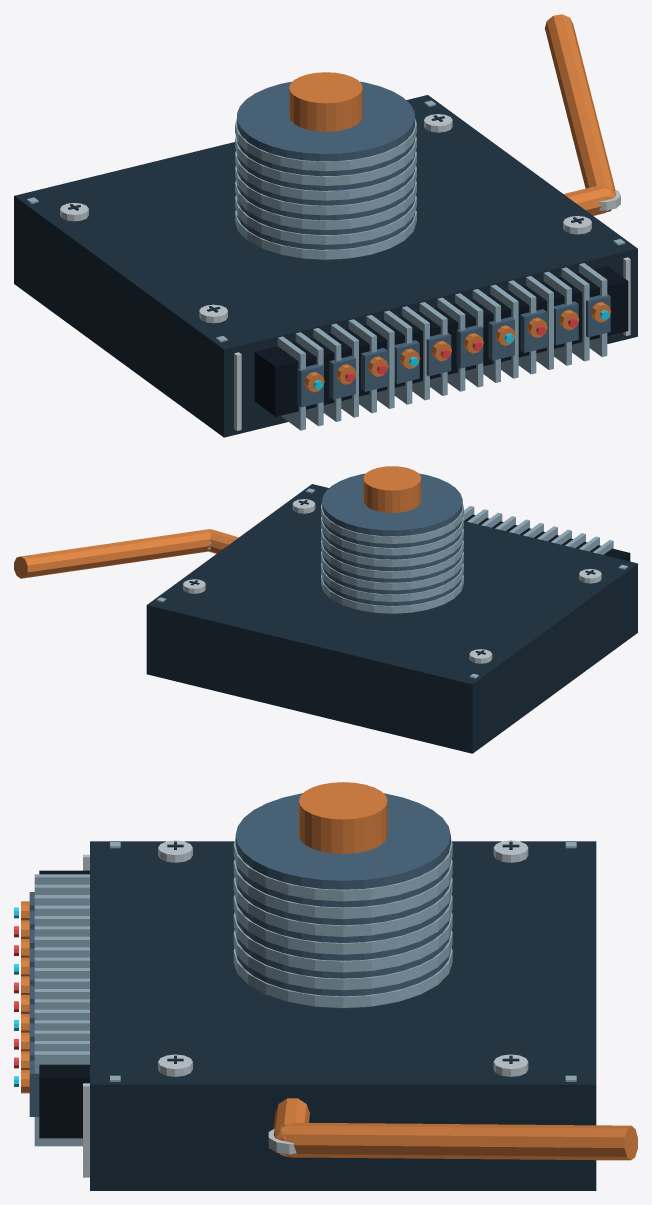
File: 04_L73_PlatenServoMotorDrive.fbx
3 views of the same model, one above another, from view 1: azimuth 30°, elevation 25°; view 2: azimuth 150°, elevation 25°; view 3: azimuth 270°, elevation 25° (orthographic). The views are drawn at different scales.
Parts seen in each view (by area): view 1: PlatenServoMotorDrive, PlatenServoMotorDrive_Part_0007, PlatenServoMotorDrive_Part_0019, PlatenServoMotorDrive_Part_0012, PlatenServoMotorDrive_Part_0018, PlatenServoMotorDrive_Part_0016, PlatenServoMotorDrive_Part_0015, PlatenServoMotorDrive_Part_0014, PlatenServoMotorDrive_Part_0013, PlatenServoMotorDrive_Part_0017; view 2: PlatenServoMotorDrive, PlatenServoMotorDrive_Part_0007, PlatenServoMotorDrive_Part_0019, PlatenServoMotorDrive_Part_0014, PlatenServoMotorDrive_Part_0012, PlatenServoMotorDrive_Part_0018, PlatenServoMotorDrive_Part_0016, PlatenServoMotorDrive_Part_0017, PlatenServoMotorDrive_Part_0015, PlatenServoMotorDrive_Part_0013; view 3: PlatenServoMotorDrive, PlatenServoMotorDrive_Part_0007, PlatenServoMotorDrive_Part_0019, PlatenServoMotorDrive_Part_0018, PlatenServoMotorDrive_Part_0014, PlatenServoMotorDrive_Part_0015, PlatenServoMotorDrive_Part_0017, PlatenServoMotorDrive_Part_0013, PlatenServoMotorDrive_Part_0016, PlatenServoMotorDrive_Part_0012.
Boxes of the visible parts, x1=… form: PlatenServoMotorDrive: x1=14, y1=14, x2=637, y2=437; PlatenServoMotorDrive_Part_0007: x1=237, y1=81, x2=414, y2=259; PlatenServoMotorDrive_Part_0019: x1=289, y1=72, x2=362, y2=131; PlatenServoMotorDrive_Part_0012: x1=235, y1=210, x2=416, y2=259; PlatenServoMotorDrive_Part_0018: x1=235, y1=118, x2=416, y2=171; PlatenServoMotorDrive_Part_0016: x1=235, y1=151, x2=416, y2=200; PlatenServoMotorDrive_Part_0015: x1=235, y1=166, x2=416, y2=215; PlatenServoMotorDrive_Part_0014: x1=235, y1=180, x2=416, y2=230; PlatenServoMotorDrive_Part_0013: x1=235, y1=195, x2=416, y2=244; PlatenServoMotorDrive_Part_0017: x1=235, y1=136, x2=416, y2=185; PlatenServoMotorDrive: x1=14, y1=484, x2=637, y2=753; PlatenServoMotorDrive_Part_0007: x1=322, y1=473, x2=462, y2=613; PlatenServoMotorDrive_Part_0019: x1=363, y1=466, x2=421, y2=512; PlatenServoMotorDrive_Part_0014: x1=321, y1=551, x2=463, y2=590; PlatenServoMotorDrive_Part_0012: x1=321, y1=574, x2=463, y2=613; PlatenServoMotorDrive_Part_0018: x1=321, y1=503, x2=463, y2=543; PlatenServoMotorDrive_Part_0016: x1=321, y1=528, x2=463, y2=567; PlatenServoMotorDrive_Part_0017: x1=321, y1=516, x2=463, y2=555; PlatenServoMotorDrive_Part_0015: x1=321, y1=539, x2=463, y2=578; PlatenServoMotorDrive_Part_0013: x1=321, y1=563, x2=463, y2=601; PlatenServoMotorDrive: x1=14, y1=840, x2=637, y2=1190; PlatenServoMotorDrive_Part_0007: x1=235, y1=793, x2=450, y2=1008; PlatenServoMotorDrive_Part_0019: x1=299, y1=782, x2=387, y2=853; PlatenServoMotorDrive_Part_0018: x1=233, y1=838, x2=452, y2=901; PlatenServoMotorDrive_Part_0014: x1=233, y1=912, x2=452, y2=972; PlatenServoMotorDrive_Part_0015: x1=233, y1=894, x2=452, y2=954; PlatenServoMotorDrive_Part_0017: x1=233, y1=859, x2=452, y2=919; PlatenServoMotorDrive_Part_0013: x1=233, y1=930, x2=452, y2=990; PlatenServoMotorDrive_Part_0016: x1=233, y1=877, x2=452, y2=936; PlatenServoMotorDrive_Part_0012: x1=233, y1=948, x2=452, y2=1007.
Size of the model in its own units: 251 by 93.5 by 197.
